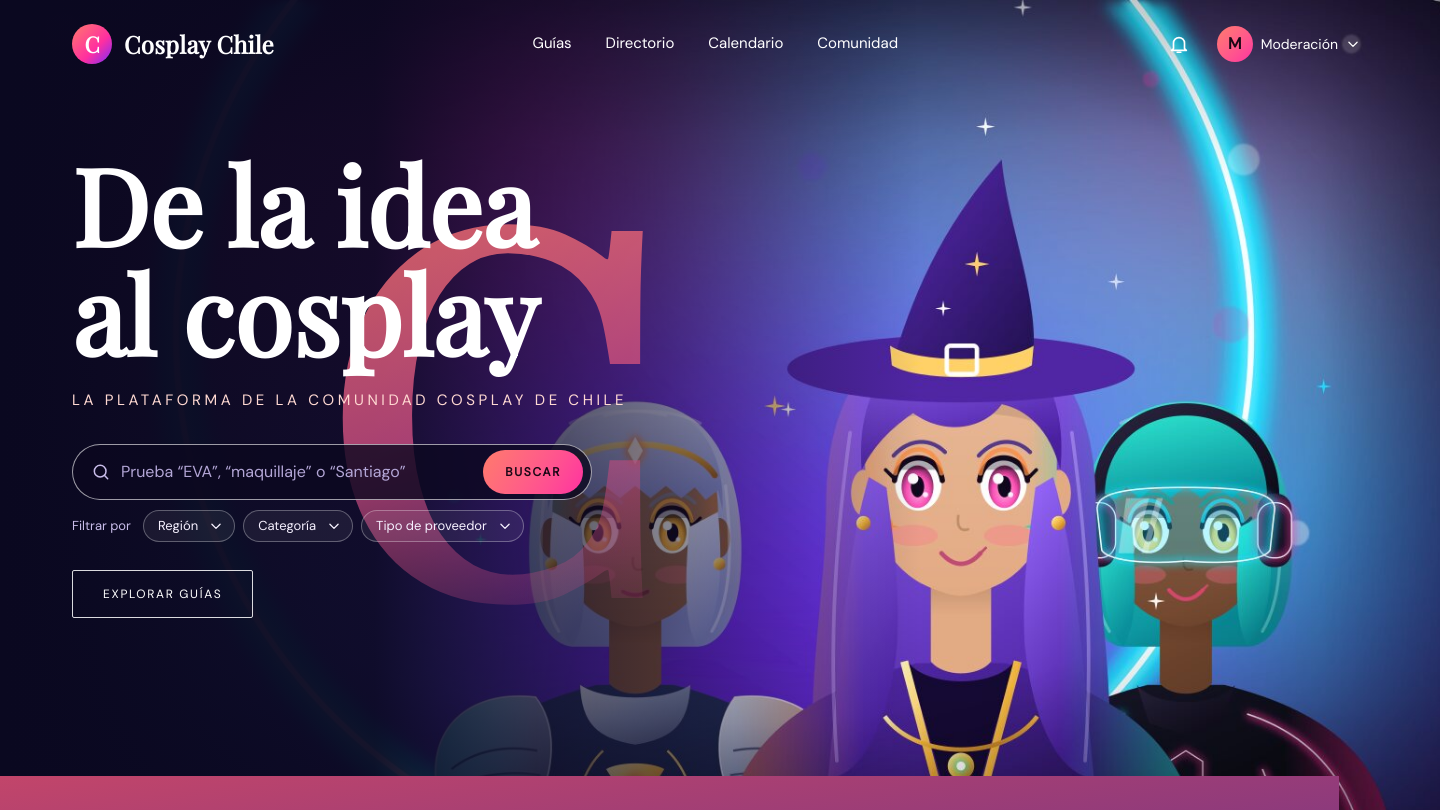
Scenario: Layout global › con sesión de moderación muestra la campana y el acceso al panel
Check: the button named "Notificaciones" is shown, box [1157,22,1201,66]
Click the button named "Menú de mi cuenta": (1290, 44) [1213,22,1368,66]
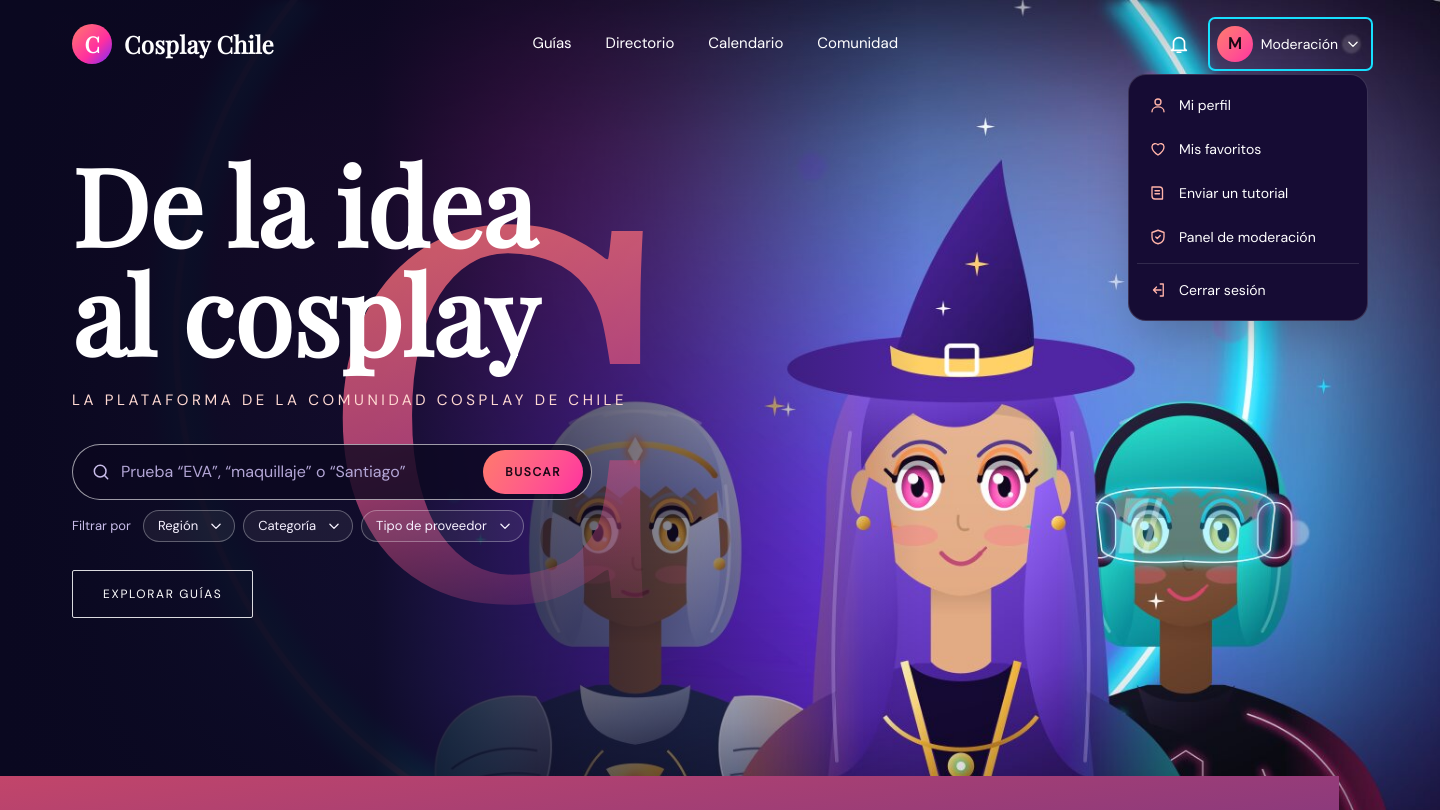
Check: the link "Panel de moderación" is shown, box [1149,228,1316,246]
